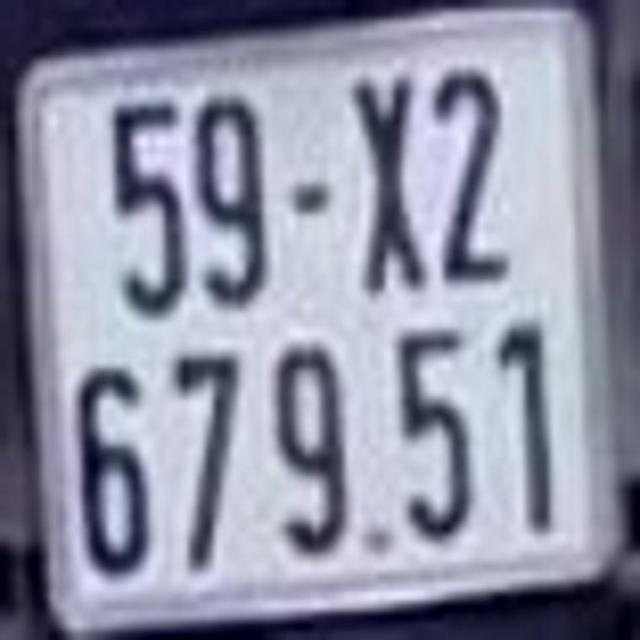1: (498, 316, 556, 540)
2: (434, 57, 513, 280)
5: (395, 327, 478, 546), (110, 103, 190, 315)
6: (78, 366, 152, 574)
7: (174, 349, 244, 570)
9: (272, 337, 348, 553), (197, 94, 270, 302)
X: (356, 70, 424, 286)
